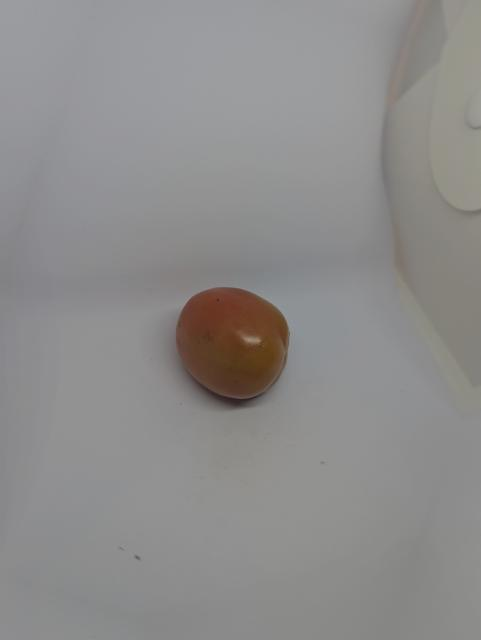turning: (169, 278, 297, 405)
